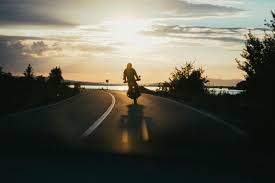motorcycle: (121, 72, 144, 104)
